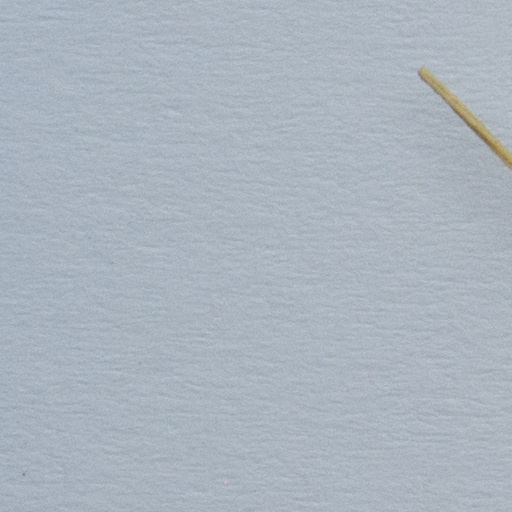Peel-poly: (428, 74, 511, 172)
